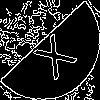X: (25, 25, 78, 81)
